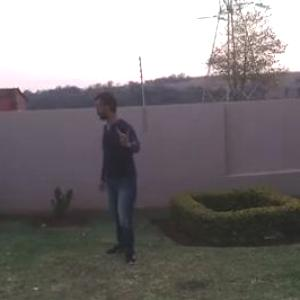takeoff-hand: (114, 121, 139, 150)
